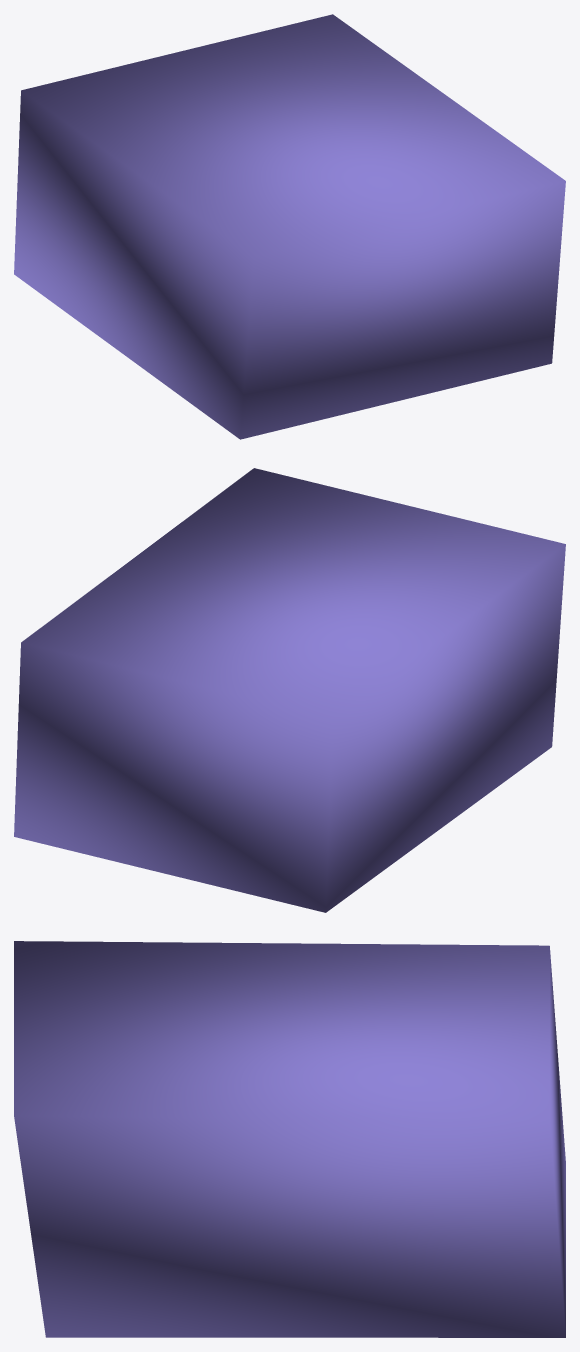
File: Rock_Medium_SPR_COL.fbx
3 views of the same model, one above another, from view 1: azimuth 30°, elevation 25°; view 2: azimuth 150°, elevation 25°; view 3: azimuth 270°, elevation 25° (orthographic). The views are drawn at different scales.
Parts seen in each view (by area): view 1: Rock_Medium_SPR_COL; view 2: Rock_Medium_SPR_COL; view 3: Rock_Medium_SPR_COL.
Boxes of the visible parts, <box> form: Rock_Medium_SPR_COL: <box>14,14,565,439</box>; Rock_Medium_SPR_COL: <box>14,468,565,912</box>; Rock_Medium_SPR_COL: <box>14,941,565,1337</box>.
Size of the model in its own units: 66.62 by 39.41 by 88.85.
